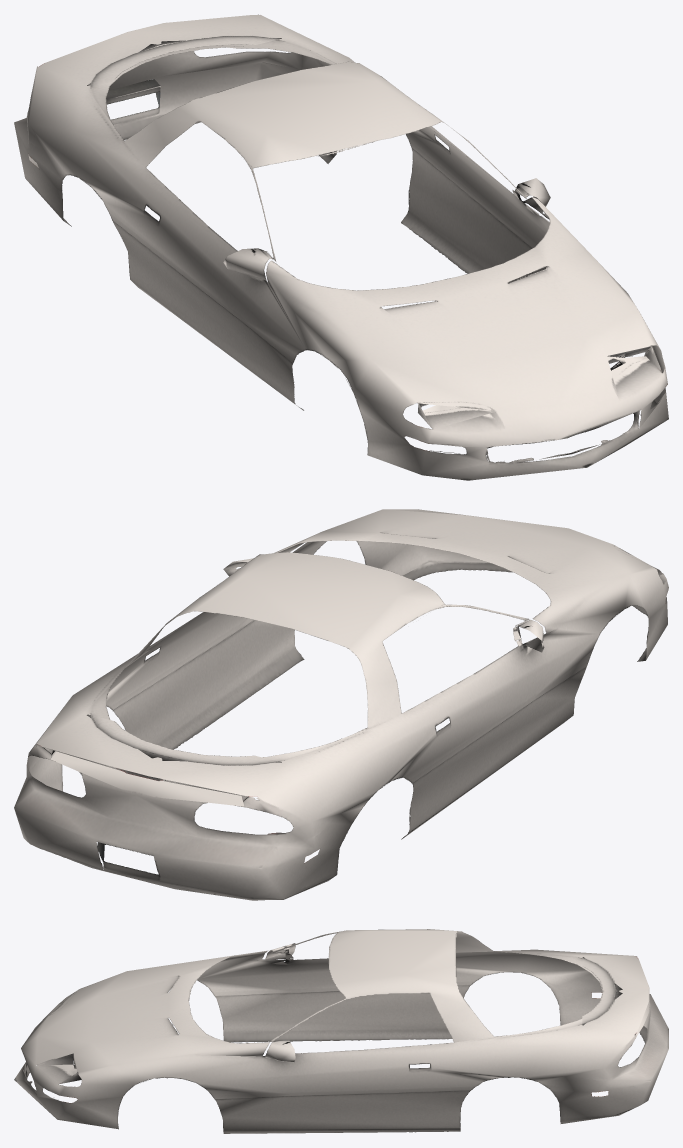
File: mobile_car_0002.fbx
3 views of the same model, one above another, from view 1: azimuth 30°, elevation 25°; view 2: azimuth 150°, elevation 25°; view 3: azimuth 270°, elevation 25° (orthographic). The views are drawn at different scales.
Visible parts, largest first — view 1: Mesh; view 2: Mesh; view 3: Mesh.
Boxes of the visible parts, <box> form: Mesh: <box>14,14,668,480</box>; Mesh: <box>14,509,668,900</box>; Mesh: <box>14,929,668,1133</box>.
Bounding box in the file's own units: 210 × 119 × 516.
